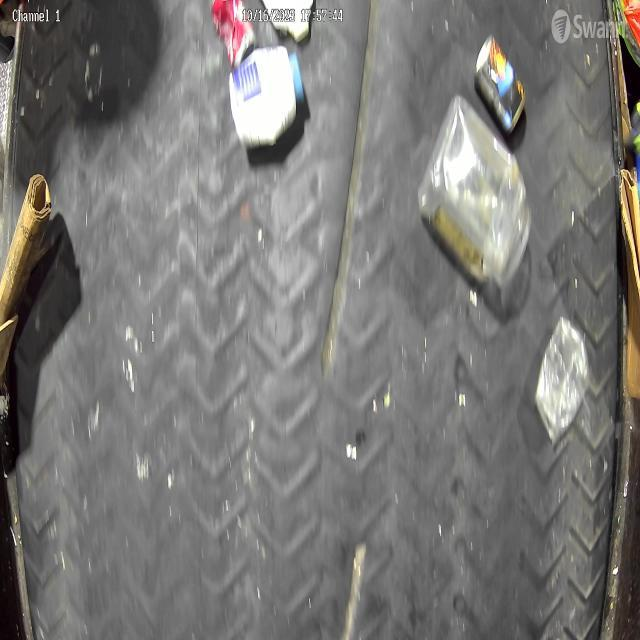can: (476, 34, 526, 136), (212, 0, 256, 69)
milk_jug: (228, 45, 305, 147)
